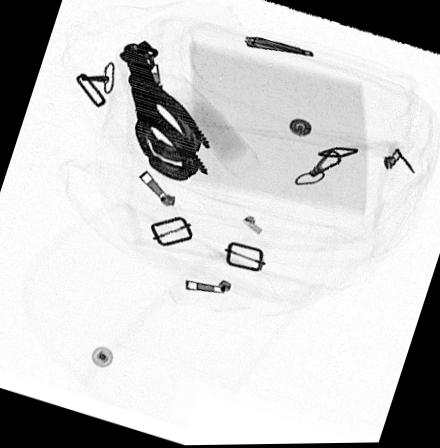HandCuffs: (117, 39, 211, 180)
